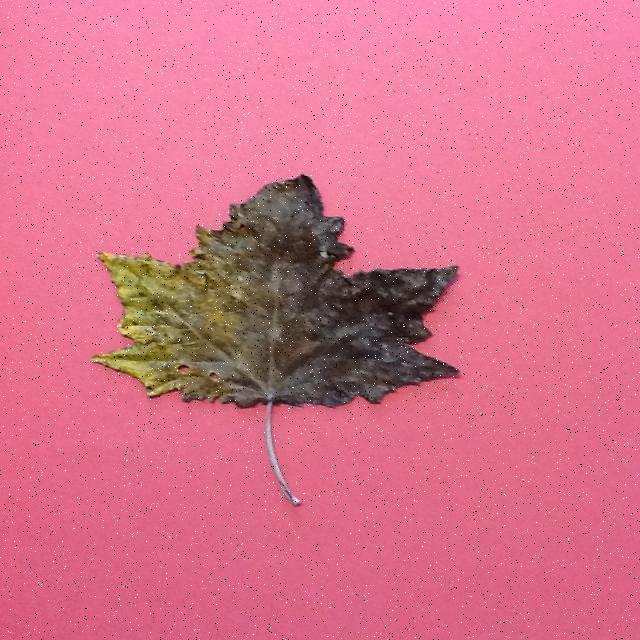foliage: (90, 172, 460, 508)
